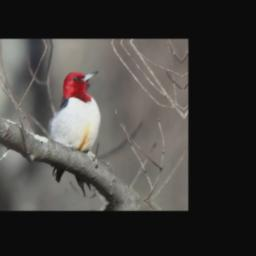Woodpecker: (43, 70, 107, 202)
